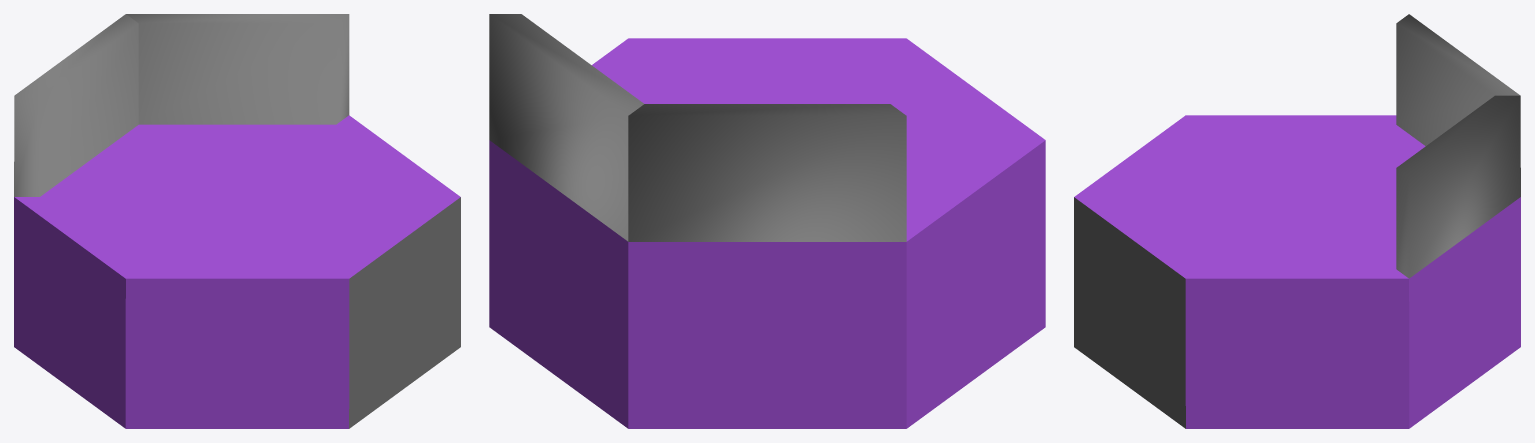
File: NormalTile2WallStage3.fbx
The picture shows the model from 3 angles, left to right: view 1: azimuth 30°, elevation 25°; view 2: azimuth 150°, elevation 25°; view 3: azimuth 270°, elevation 25°; orthographic projection. The views are drawn at different scales.
Visible parts, largest first — view 1: NormalTile2WallStage3; view 2: NormalTile2WallStage3; view 3: NormalTile2WallStage3.
Boxes of the visible parts, x1,y1,x2,y2 form: NormalTile2WallStage3: (14, 14, 460, 428); NormalTile2WallStage3: (489, 14, 1045, 428); NormalTile2WallStage3: (1074, 14, 1520, 428).
Size of the model in its own units: 173 by 124 by 200.
